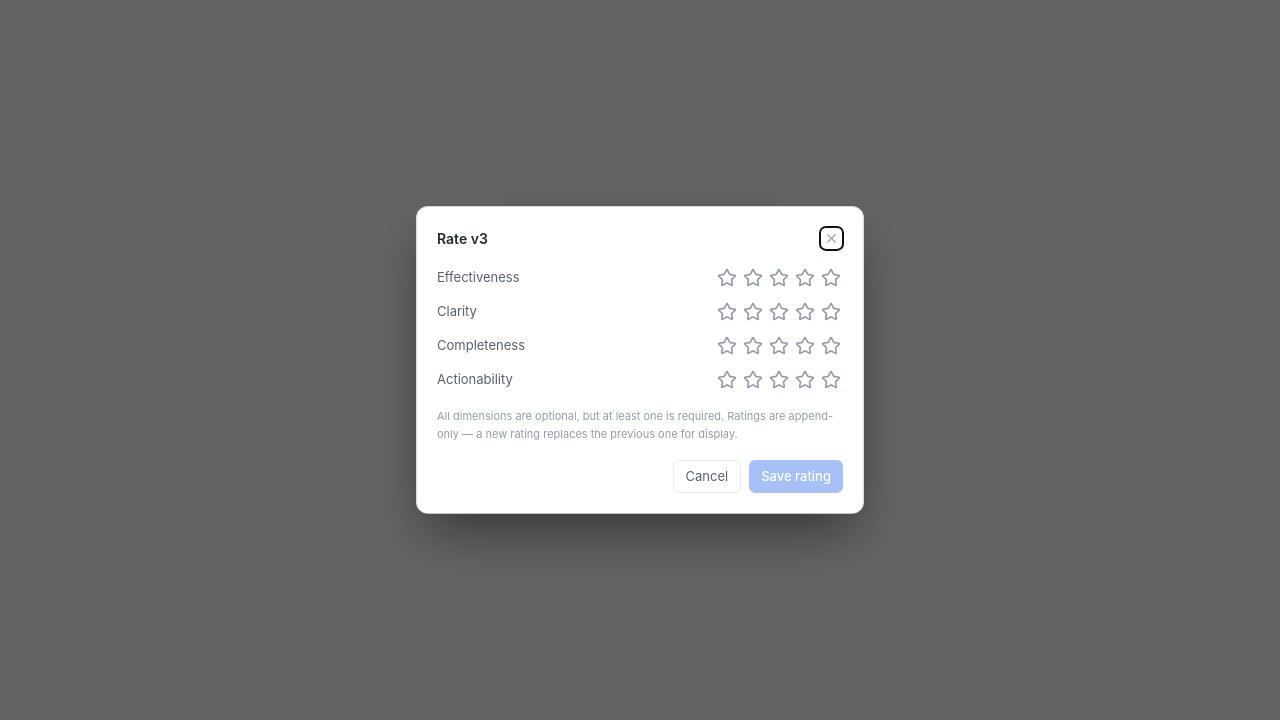
RateDialog › keeps Save disabled until at least one dimension is rated
The width and height of the screenshot is (1280, 720).
Expected: the button "Save rating" is disabled, [749,460,843,493]
Click the button named "4 stars" in the row of "Effectiveness": (805, 278) [793,266,817,290]
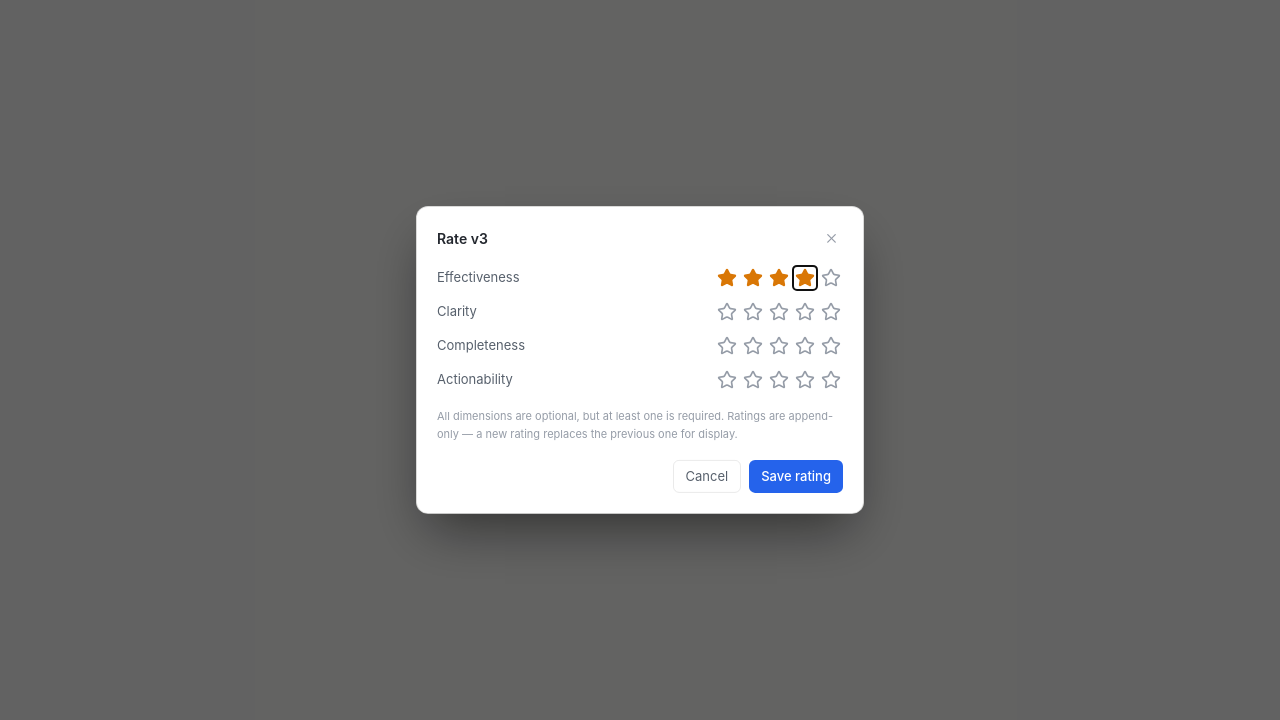
Now the button "Save rating" is enabled, box [749,460,843,493]
Note: Toggling the same star back off blocks saving again.
Click the button named "4 stars" in the row of "Effectiveness": (805, 278) [793,266,817,290]
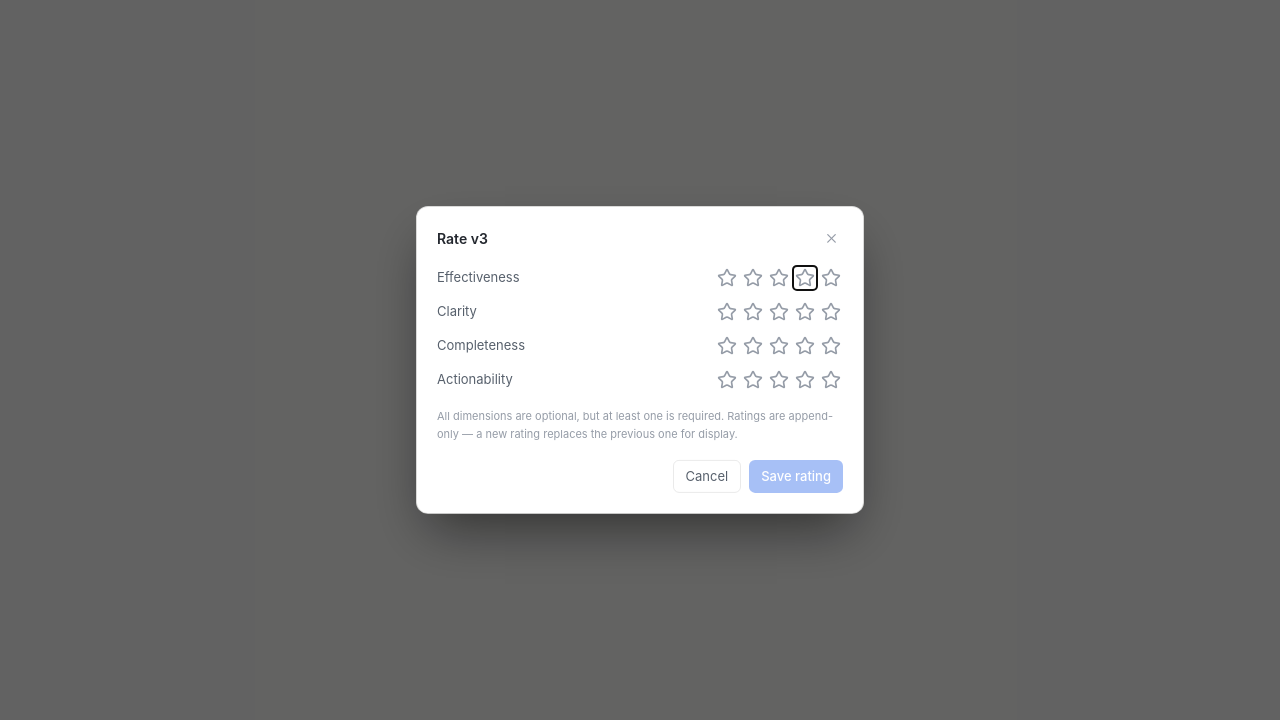
Now the button "Save rating" is disabled, box [749,460,843,493]
